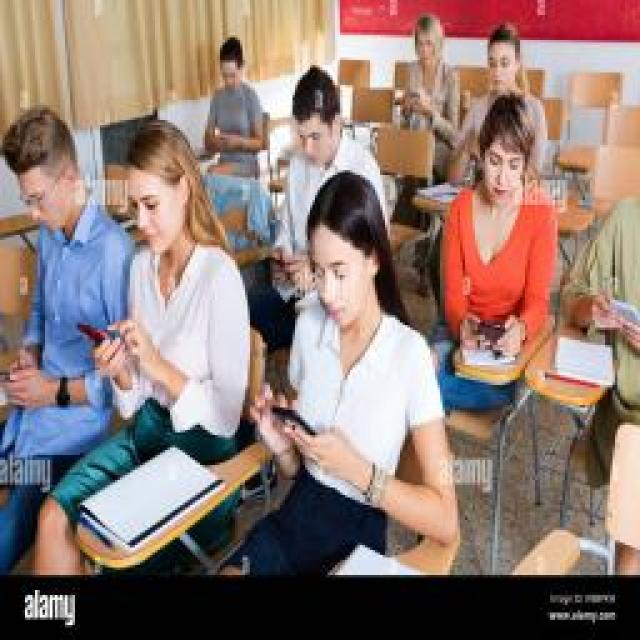phone: (255, 177, 460, 545), (82, 115, 238, 467), (0, 107, 105, 415), (442, 92, 550, 348), (268, 72, 378, 288), (398, 10, 460, 148), (205, 37, 265, 165)
